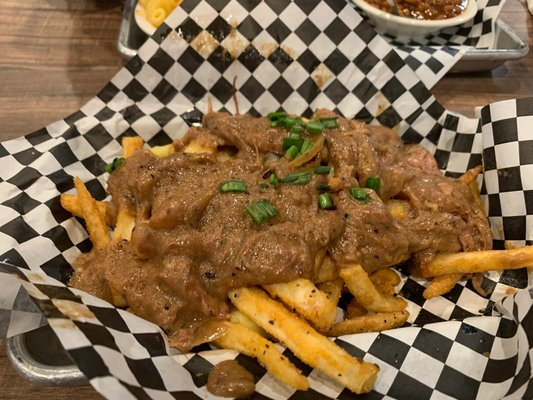burger: (0, 249, 210, 399)
sushi: (350, 0, 486, 39)
